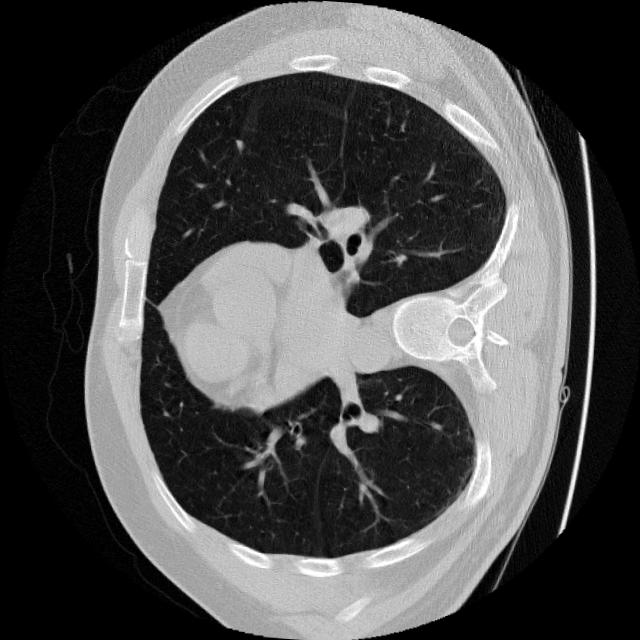nodule: (226, 130, 249, 153)
